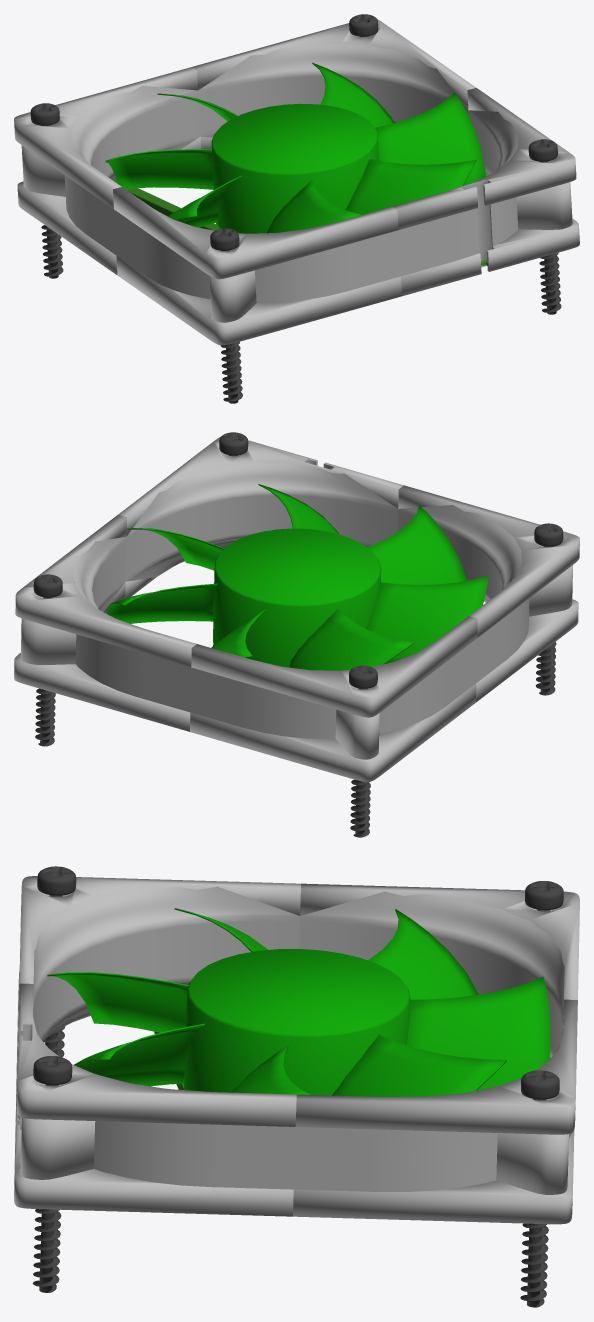
The model's file is cooler.glb.
3 renders of one model, top to bottom at view 1: azimuth 30°, elevation 25°; view 2: azimuth 150°, elevation 25°; view 3: azimuth 270°, elevation 25°, orthographic. The views are drawn at different scales.
Parts seen in each view (by area): view 1: Line19, Line20, Line18, Line21, Cylinder01, Line06, Line05, Line02, Line04, Line07, schroef, schroef01 (+4 smaller); view 2: Line18, Line21, Line20, Line19, Cylinder01, Line03, Line04, Line02, Line07, schroef02, schroef03, schroef (+4 smaller); view 3: Line20, Line21, Line19, Cylinder01, Line18, Line01, Line07, Line04, Line02, Line05, schroef02, schroef01 (+4 smaller).
Part boxes in pixels (left/top/right/bottom): Line19: left=113, top=187, right=401, bottom=345; Line20: left=392, top=88, right=579, bottom=296; Line18: left=14, top=67, right=201, bottom=274; Line21: left=192, top=19, right=476, bottom=149; Cylinder01: left=211, top=103, right=379, bottom=233; Line06: left=375, top=92, right=485, bottom=185; Line05: left=345, top=159, right=476, bottom=214; Line02: left=105, top=149, right=213, bottom=189; Line04: left=267, top=180, right=361, bottom=233; Line07: left=312, top=62, right=394, bottom=127; schroef: left=210, top=228, right=242, bottom=403; schroef01: left=528, top=139, right=561, bottom=314; Line18: left=190, top=616, right=477, bottom=781; Line21: left=14, top=514, right=196, bottom=731; Line20: left=118, top=436, right=403, bottom=597; Line19: left=398, top=485, right=579, bottom=702; Cylinder01: left=213, top=528, right=381, bottom=667; Line03: left=366, top=575, right=488, bottom=663; Line04: left=367, top=505, right=467, bottom=584; Line02: left=288, top=609, right=414, bottom=670; Line07: left=107, top=583, right=217, bottom=623; schroef02: left=33, top=574, right=62, bottom=746; schroef03: left=349, top=665, right=377, bottom=837; schroef: left=534, top=523, right=563, bottom=695; Line20: left=14, top=983, right=296, bottom=1216; Line21: left=293, top=999, right=577, bottom=1224; Line19: left=16, top=876, right=300, bottom=1095; Cylinder01: left=184, top=949, right=410, bottom=1095; Line18: left=299, top=883, right=579, bottom=1057; Line01: left=407, top=976, right=550, bottom=1090; Line07: left=332, top=1034, right=506, bottom=1096; Line04: left=47, top=972, right=188, bottom=1032; Line02: left=368, top=909, right=478, bottom=999; Line05: left=74, top=1023, right=204, bottom=1086; schroef02: left=520, top=1070, right=559, bottom=1307; schroef01: left=32, top=1056, right=72, bottom=1292.
Bounding box in the file's own units: 2.74 × 1.38 × 2.74.
